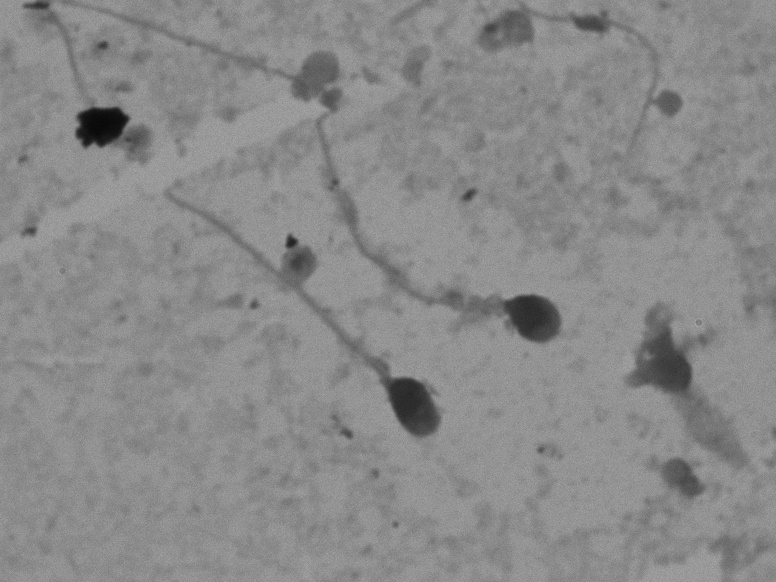Abnormal: (93, 3, 600, 367), (140, 157, 473, 456)
